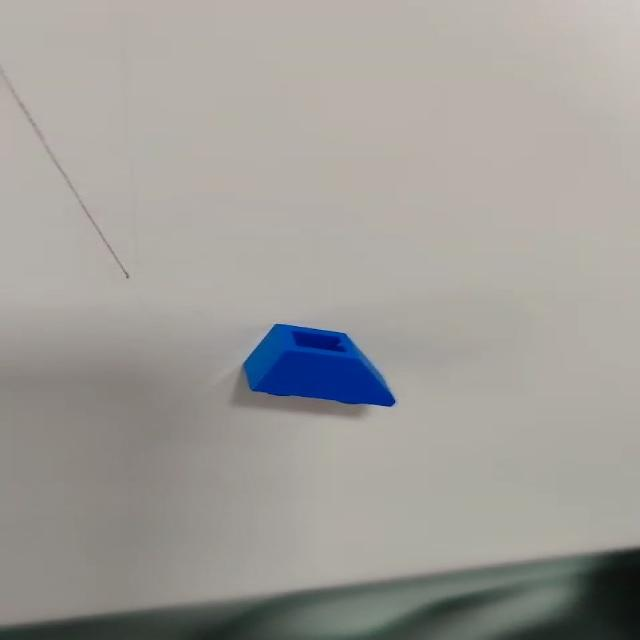X1x2x1: (239, 324, 408, 411)
